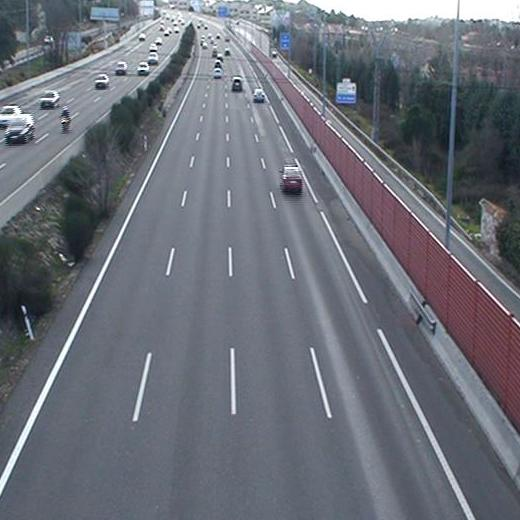car: (280, 166, 302, 192), (252, 87, 265, 103), (231, 77, 243, 94), (214, 70, 222, 78), (214, 60, 223, 67)
